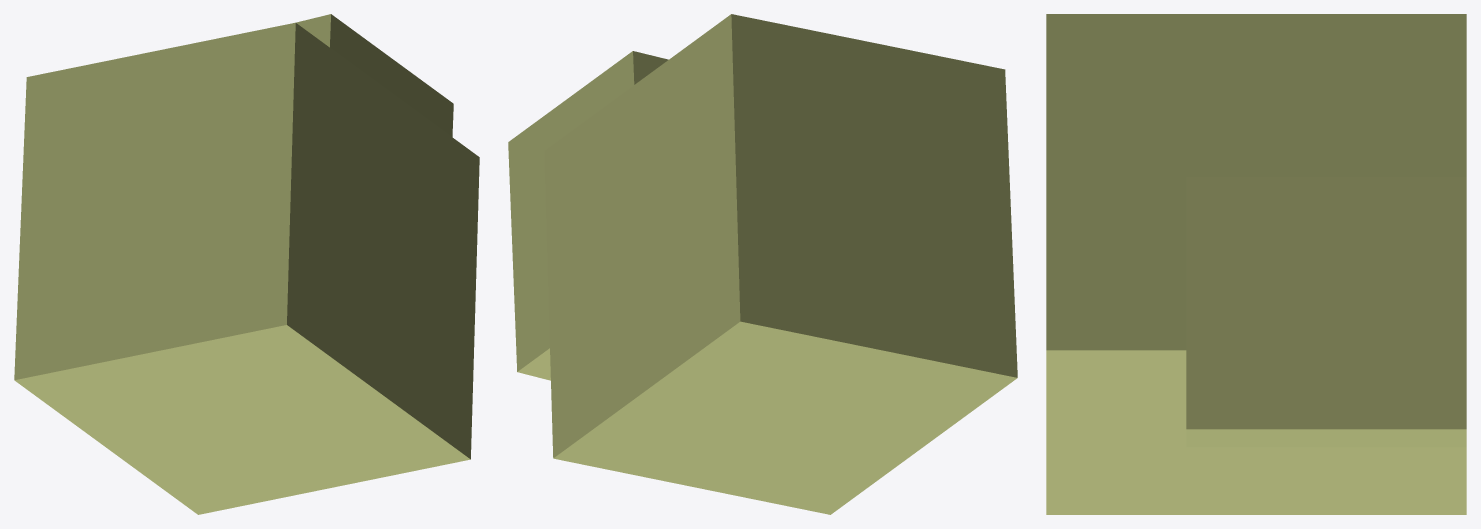
3 renders of one model, left to right at view 1: azimuth 30°, elevation 25°; view 2: azimuth 150°, elevation 25°; view 3: azimuth 270°, elevation 25°, orthographic. The views are drawn at different scales.
Visible parts, largest first — view 1: 0_2_1_3_0_0_3_2_0_1; view 2: 0_2_1_3_0_0_3_2_0_1; view 3: 0_2_1_3_0_0_3_2_0_1.
Boxes of the visible parts, x1,y1,x2,y2 form: 0_2_1_3_0_0_3_2_0_1: [14, 14, 479, 514]; 0_2_1_3_0_0_3_2_0_1: [508, 14, 1017, 514]; 0_2_1_3_0_0_3_2_0_1: [1046, 14, 1466, 514].
Bounding box in the file's own units: 8.95 × 8.4 × 9.
